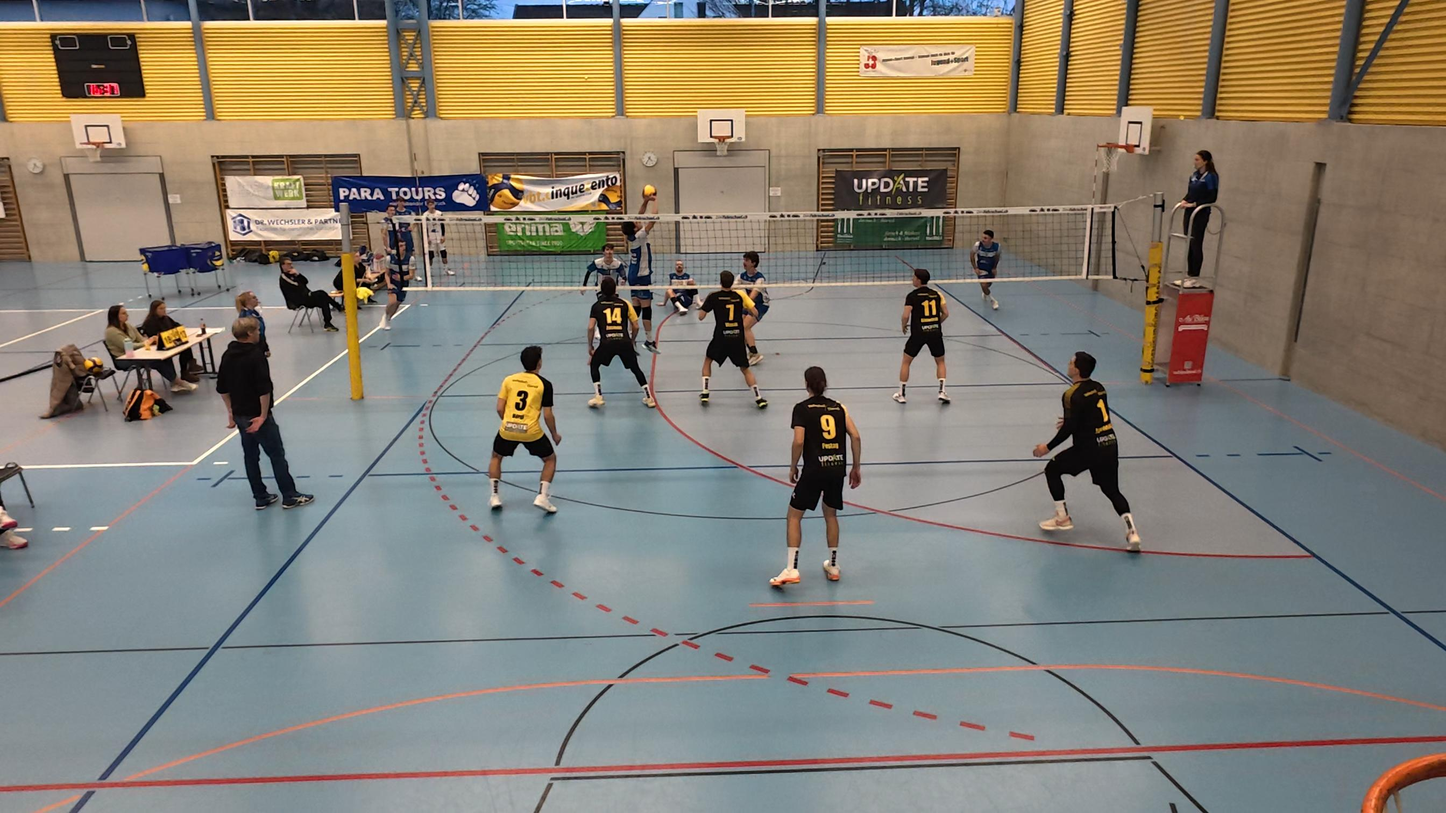alzata: (617, 188, 668, 354)
